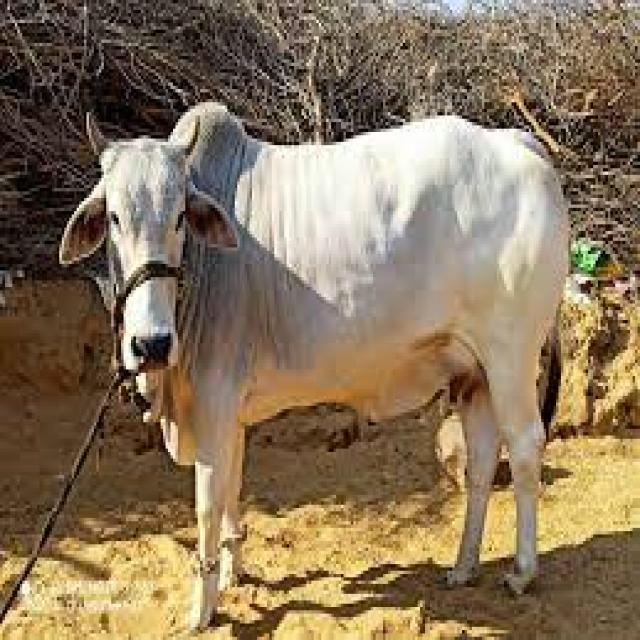cow: (60, 102, 568, 621)
